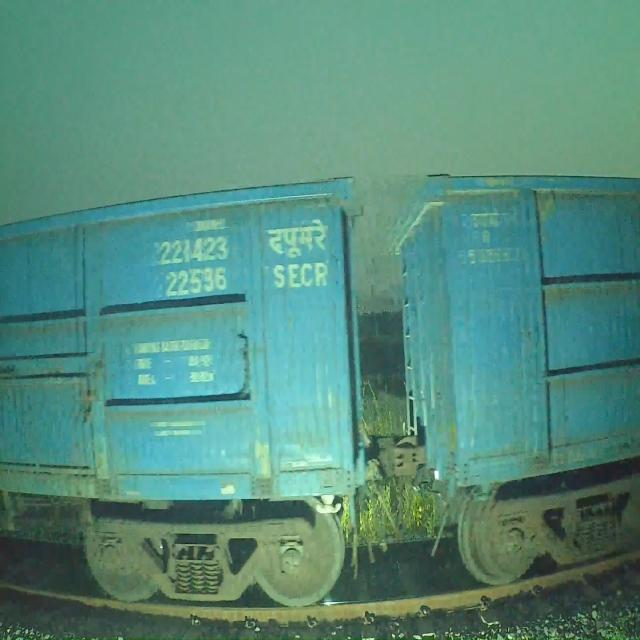WAgon-uic: (0, 172, 362, 602), (396, 170, 640, 590)
uic: (156, 231, 234, 301)
